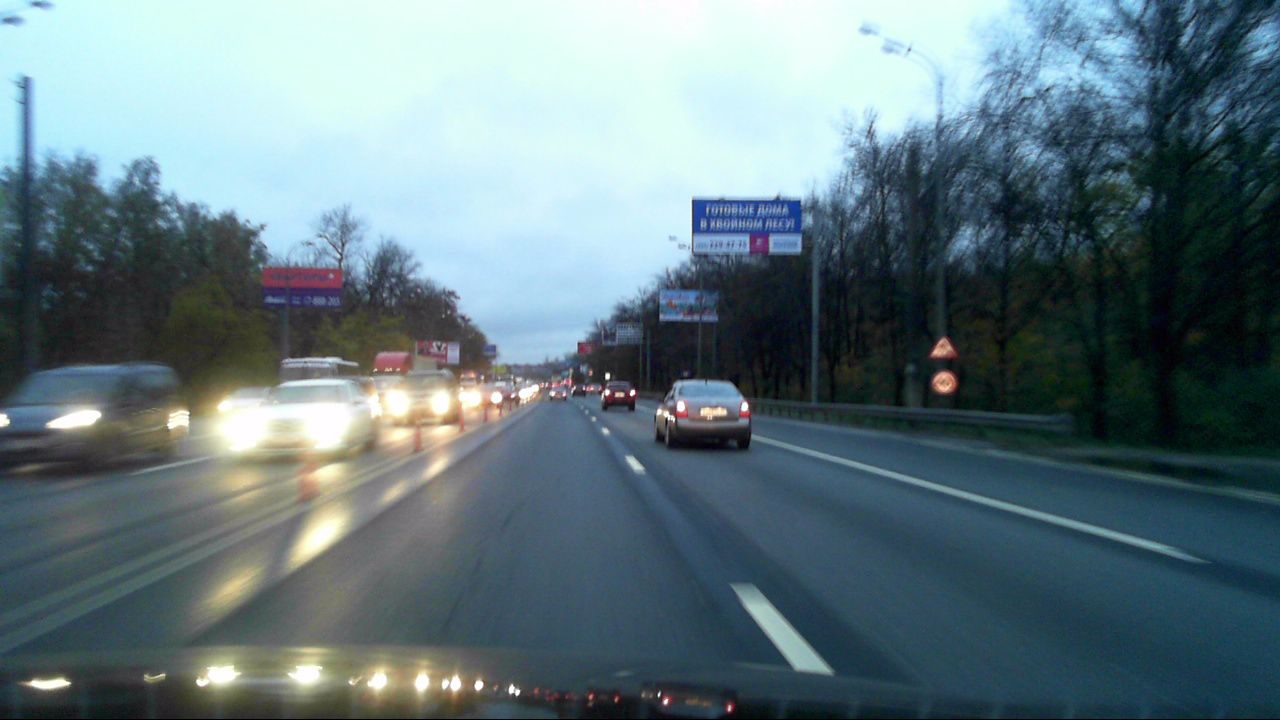speed_warning_40: (931, 370, 957, 394)
